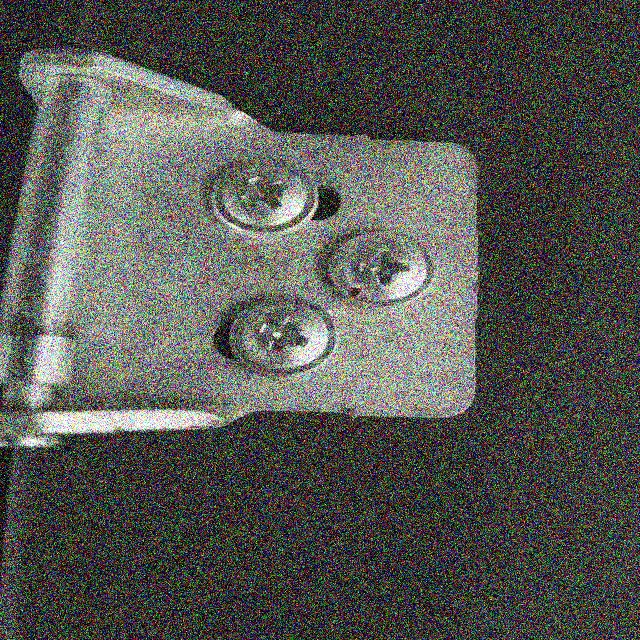phillips: (230, 297, 337, 379), (210, 161, 319, 239), (329, 228, 434, 308)
